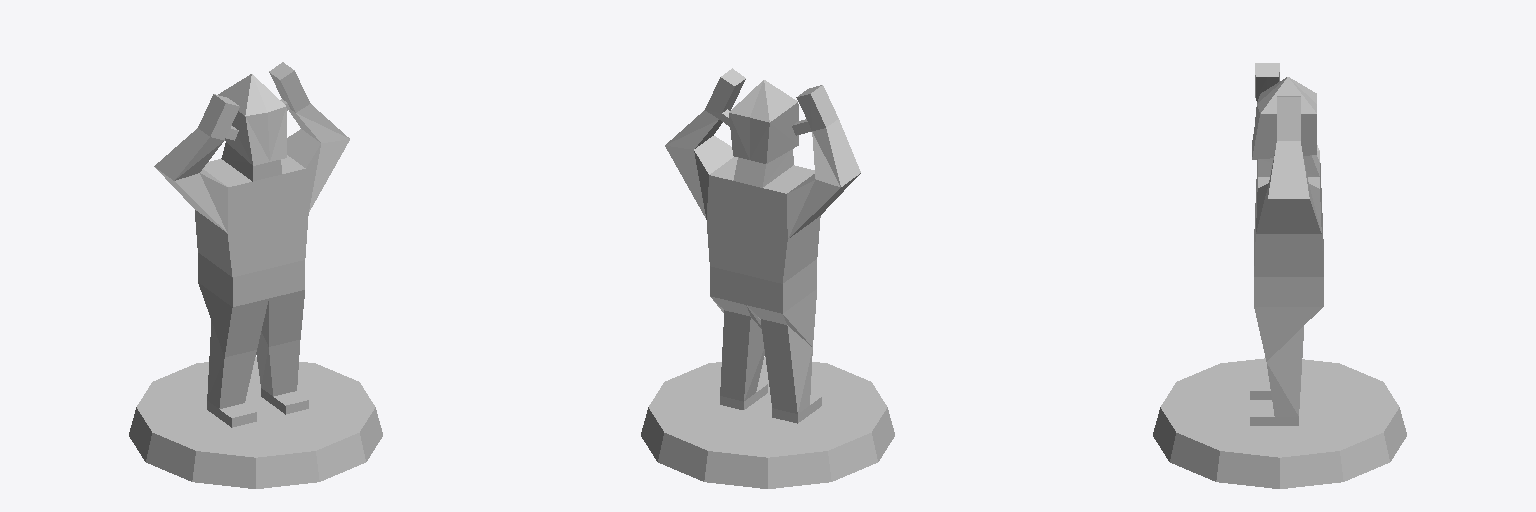
Rendered from heckler.obj.
3 views of the same model, side by side, from view 1: azimuth 30°, elevation 25°; view 2: azimuth 150°, elevation 25°; view 3: azimuth 270°, elevation 25° (orthographic).
Visible parts, largest first — view 1: Cylinder.001; view 2: Cylinder.001; view 3: Cylinder.001.
Boxes of the visible parts, x1,y1,x2,y2 form: Cylinder.001: [129, 62, 382, 488]; Cylinder.001: [641, 68, 894, 488]; Cylinder.001: [1153, 63, 1406, 488].
Size of the model in its own units: 0.5328 by 0.8278 by 0.5328.